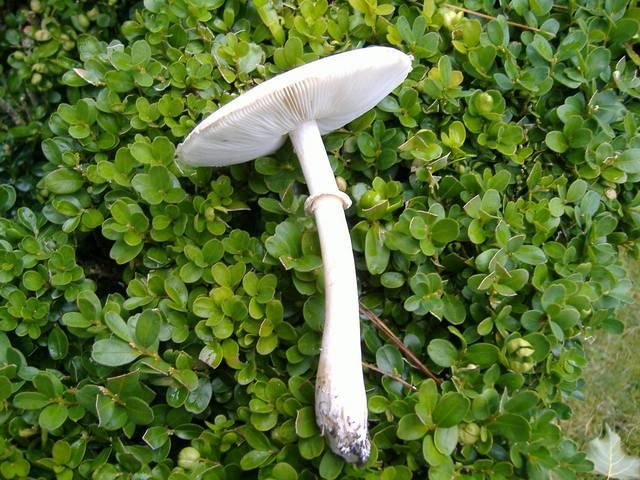Non-edible Mushroom: (172, 43, 414, 466)
